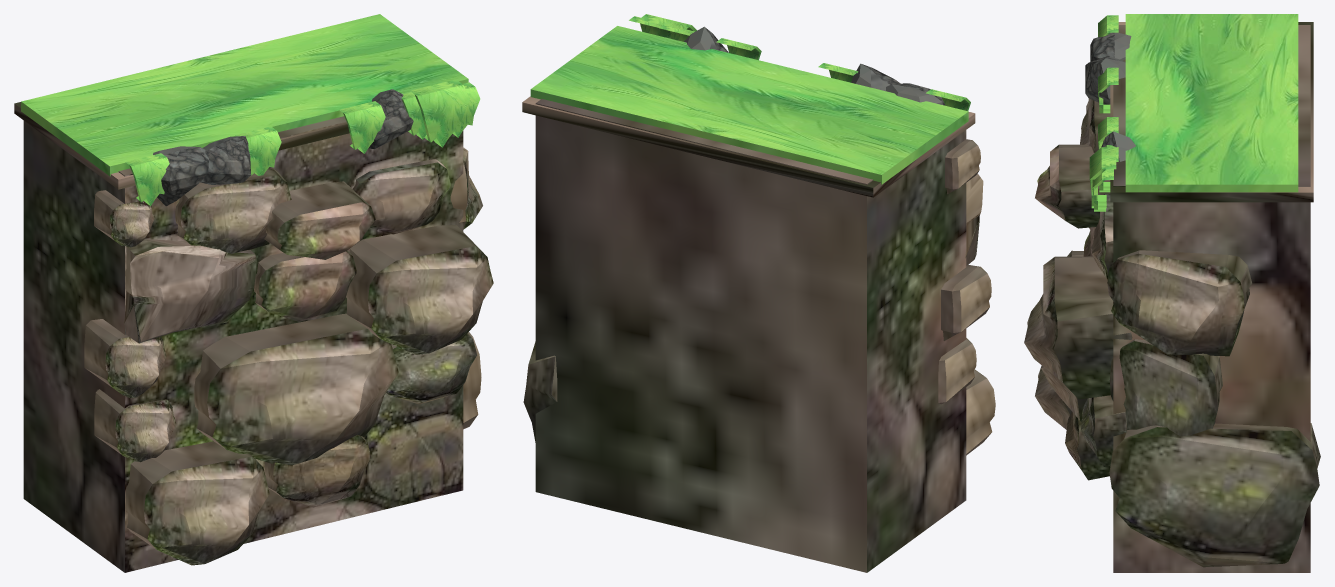
The model's file is Large bottomed platform.fbx.
3 views of the same model, side by side, from view 1: azimuth 30°, elevation 25°; view 2: azimuth 150°, elevation 25°; view 3: azimuth 270°, elevation 25° (orthographic). The views are drawn at different scales.
Visible parts, largest first — view 1: polySurface14, pCube1, pCube7, pCube8, pCube3, pCube12, pCube9, pCube2, pCube6, pCube4, pCube11, pCube10 (+4 smaller); view 2: polySurface14, pCube11, pCube8, pCube14, pCube10, pCube16, pCube3; view 3: polySurface14, pCube14, pCube13, pCube7, pCube15, pCube9, pCube5, pCube4, pCube6, pCube8, pCube12, pCube1.
Part boxes in pixels (box(x1,y1,x2,y2)): polySurface14: box(14, 14, 480, 572); pCube1: box(194, 313, 398, 465); pCube7: box(346, 225, 493, 354); pCube8: box(125, 441, 269, 565); pCube3: box(123, 239, 256, 343); pCube12: box(175, 168, 291, 253); pCube9: box(264, 181, 375, 259); pCube2: box(254, 250, 356, 321); pCube6: box(352, 159, 450, 234); pCube4: box(264, 435, 371, 507); pCube11: box(84, 319, 166, 397); pCube10: box(94, 389, 176, 462); polySurface14: box(522, 14, 975, 572); pCube11: box(941, 264, 991, 340); pCube8: box(966, 369, 995, 455); pCube14: box(523, 341, 557, 442); pCube10: box(938, 338, 976, 404); pCube16: box(945, 139, 980, 194); pCube3: box(965, 173, 983, 265); polySurface14: box(1085, 14, 1313, 572); pCube14: box(1109, 423, 1320, 567); pCube13: box(1107, 250, 1252, 356); pCube7: box(1024, 256, 1132, 399); pCube15: box(1109, 339, 1222, 436); pCube9: box(1035, 144, 1110, 228); pCube5: box(1081, 395, 1126, 466); pCube4: box(1065, 411, 1110, 480); pCube6: box(1092, 193, 1113, 279); pCube8: box(1035, 367, 1071, 429); pCube12: box(1080, 98, 1110, 152); pCube1: box(1041, 250, 1087, 422).
Size of the model in its own units: 17.06 by 16.69 by 11.
Materials: 4 (4 with a texture image).
